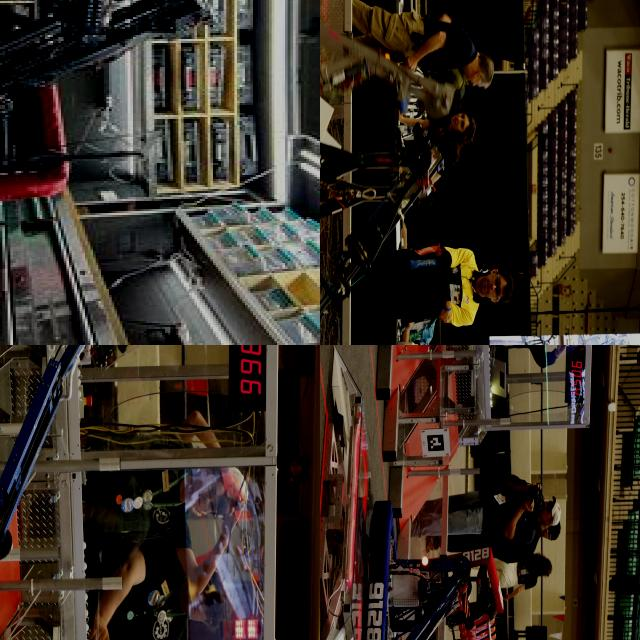FRC-Robots: (0, 345, 153, 640), (0, 0, 228, 189), (320, 0, 476, 210), (320, 62, 434, 345), (356, 475, 520, 640)
